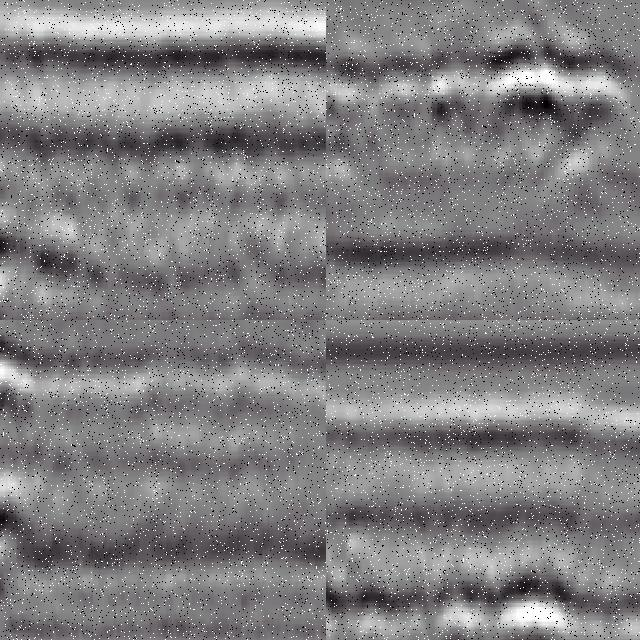loose: (327, 32, 640, 176), (327, 489, 580, 640), (1, 102, 108, 313), (1, 321, 56, 640)
